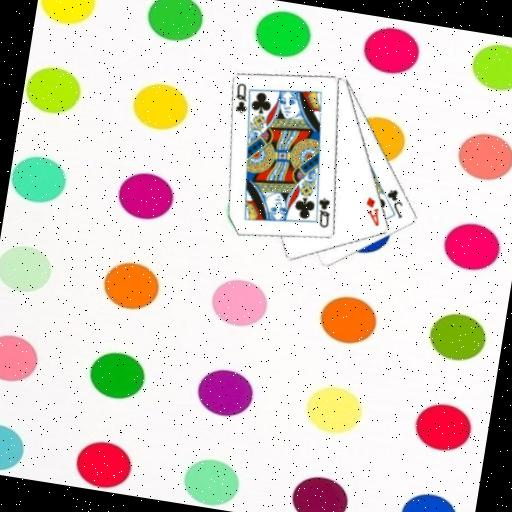AD: (360, 193, 385, 228)
JC: (380, 185, 408, 221)
QC: (312, 194, 334, 230), (230, 79, 252, 115)
